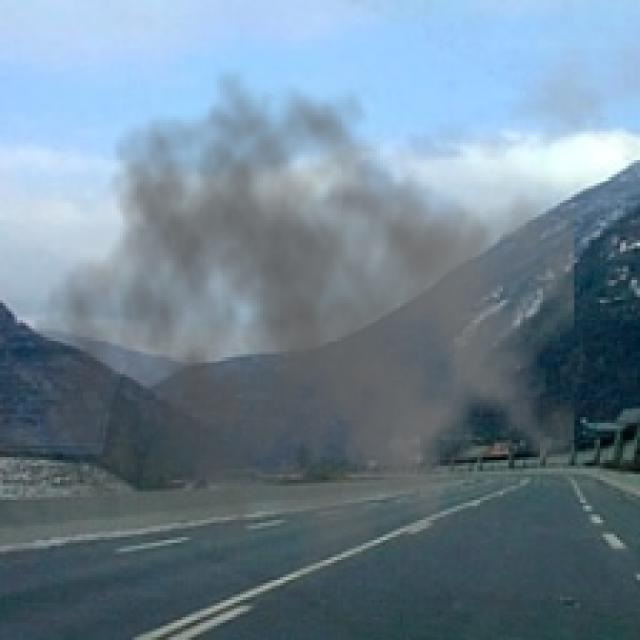smoke: (32, 66, 574, 620)
